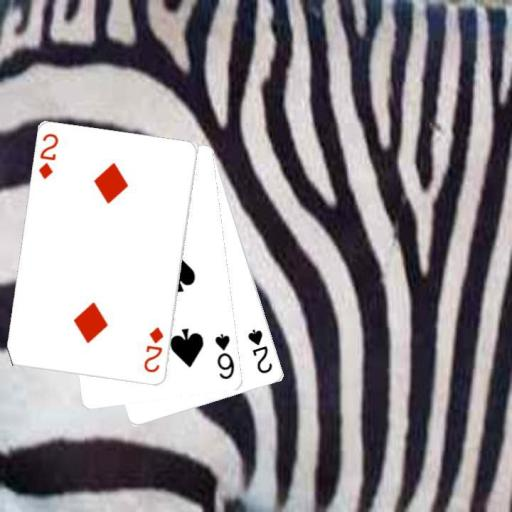2D: (36, 130, 61, 181), (141, 324, 165, 375)
2S: (245, 326, 275, 376)
6S: (212, 331, 236, 381)
